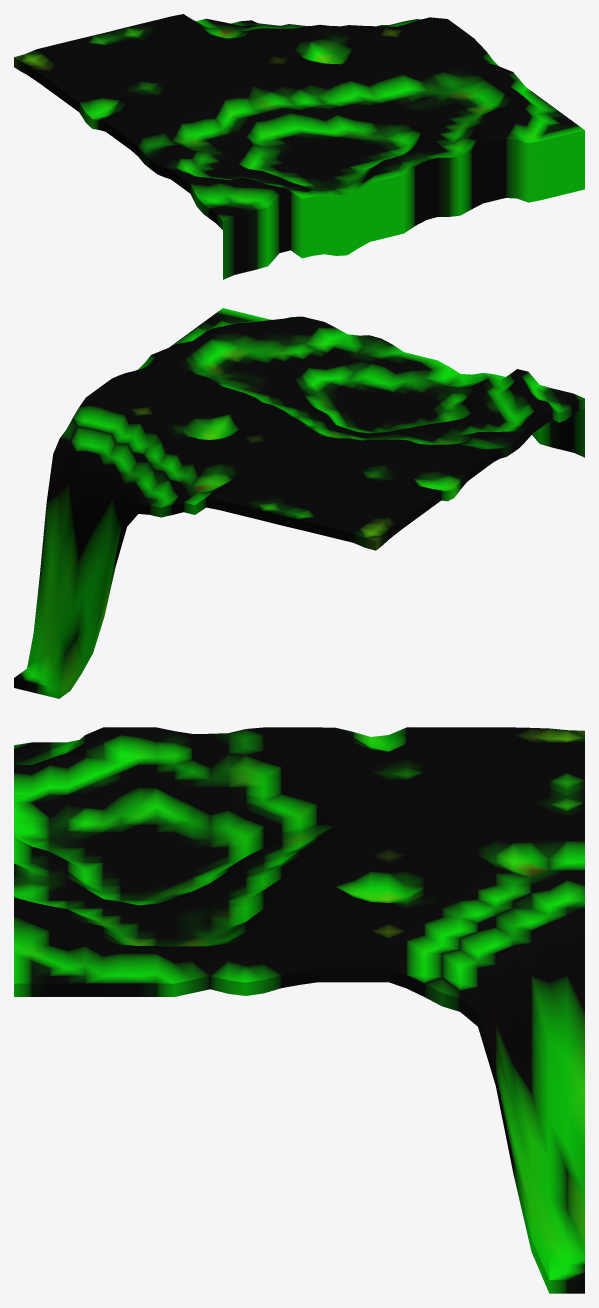
Rendered from Terrain_07_06.fbx.
The picture shows the model from 3 angles, top to bottom: view 1: azimuth 30°, elevation 25°; view 2: azimuth 150°, elevation 25°; view 3: azimuth 270°, elevation 25°; orthographic projection. The views are drawn at different scales.
Visible parts, largest first — view 1: Terrain_07_06_LOD0; view 2: Terrain_07_06_LOD0; view 3: Terrain_07_06_LOD0.
Boxes of the visible parts, <box> form: Terrain_07_06_LOD0: <box>14,14,584,279</box>; Terrain_07_06_LOD0: <box>14,308,584,698</box>; Terrain_07_06_LOD0: <box>14,727,584,1293</box>.
Size of what is drawn, in the model's own units: 384 by 241 by 384.
